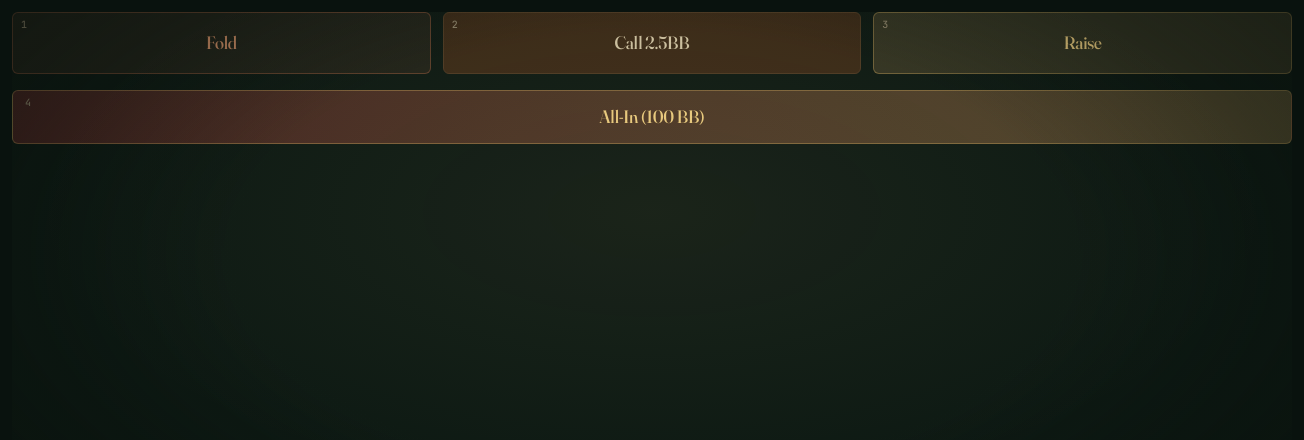
Test: ActionSelector 无障碍（a11y 残留修复） › 展开加注面板后，raise 滑块带 aria-valuetext（当前 BB 播报）
Click the button with aria-label "Raise": (1083, 43) [873,12,1292,74]
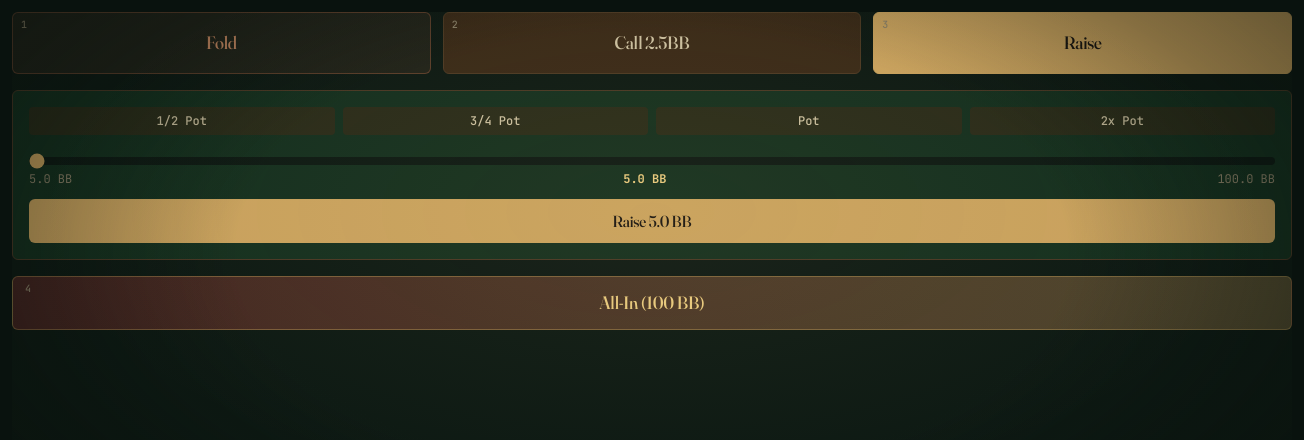
Now the slider named "加注尺寸" is shown, box [29,157,1275,165]
